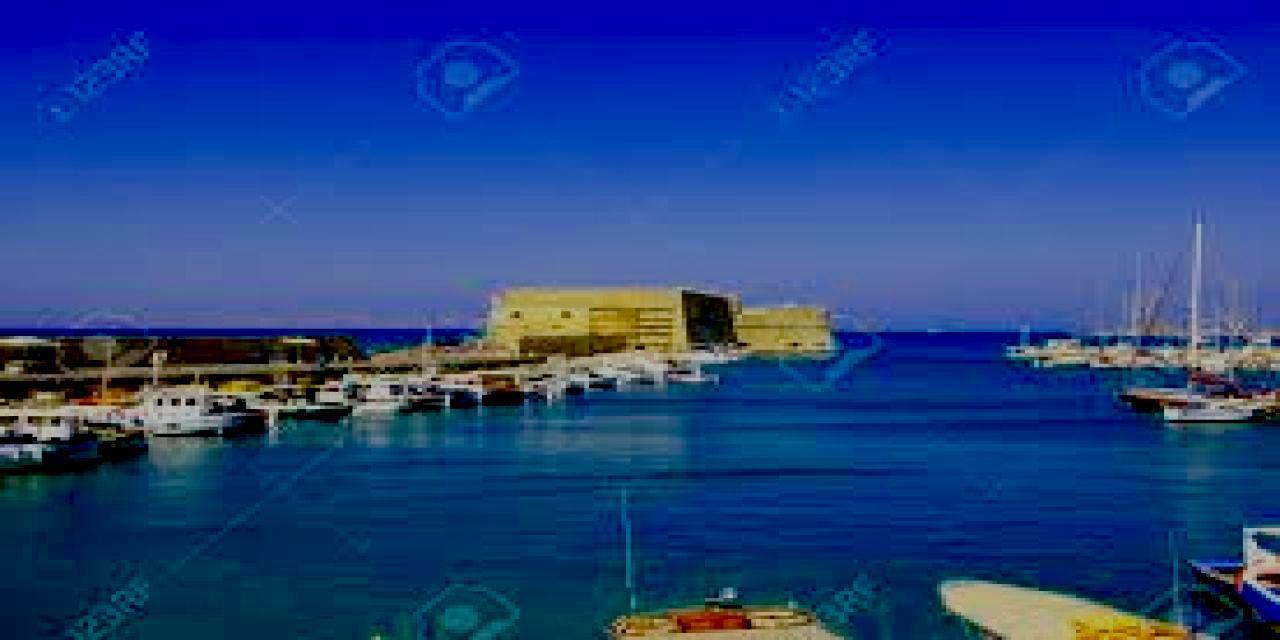Kules: (486, 287, 843, 362)
